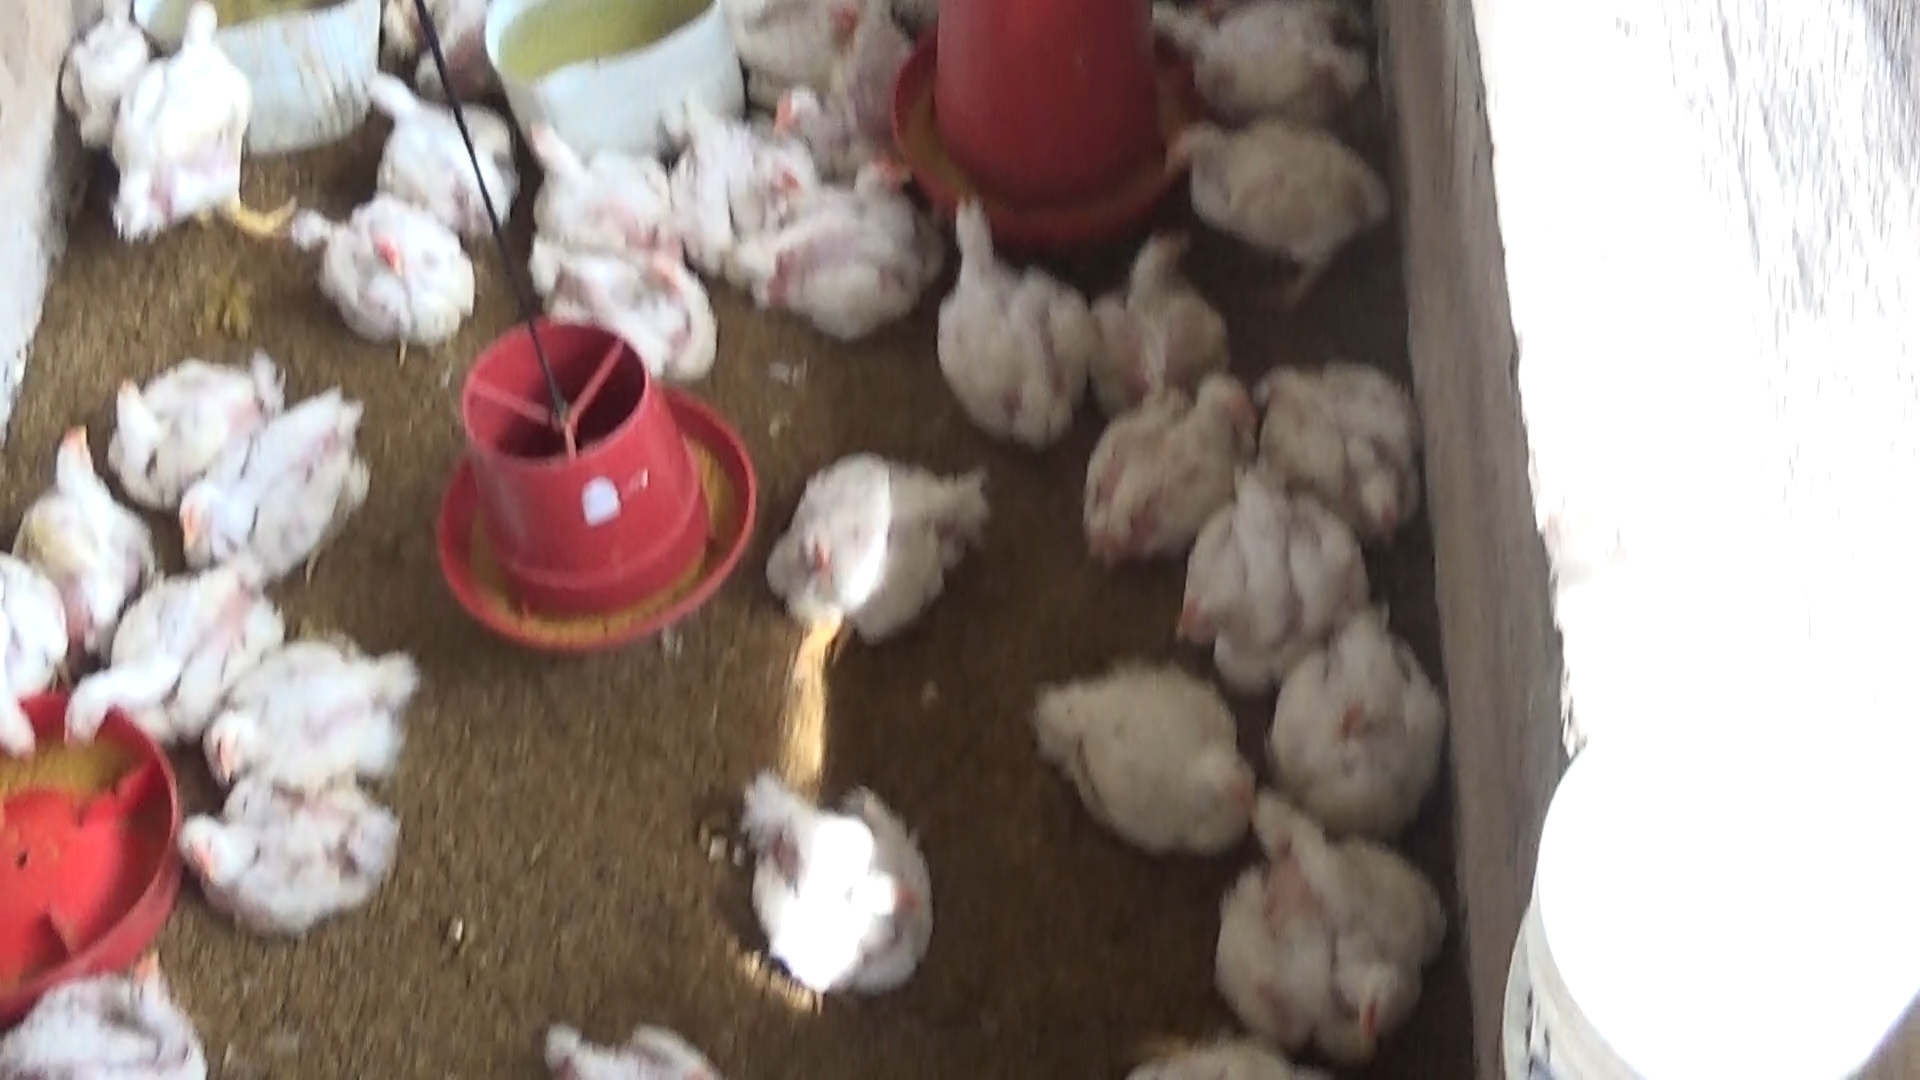Pollos: (1211, 789, 1451, 1052), (727, 757, 951, 993), (1029, 658, 1255, 857), (1153, 105, 1396, 278), (102, 0, 255, 266), (1265, 608, 1451, 825), (66, 556, 277, 748), (766, 452, 990, 628), (934, 191, 1087, 447), (200, 624, 407, 804), (1187, 483, 1367, 683), (173, 397, 367, 582), (173, 787, 415, 934), (0, 934, 208, 1080), (1095, 368, 1259, 549), (526, 228, 725, 377), (107, 336, 280, 506), (1259, 361, 1431, 531), (349, 61, 513, 229), (746, 164, 932, 306), (1163, 0, 1367, 123), (18, 422, 150, 612), (1077, 218, 1232, 378), (674, 98, 819, 258), (777, 0, 920, 161), (525, 109, 682, 256), (322, 194, 473, 342), (0, 541, 75, 762)
